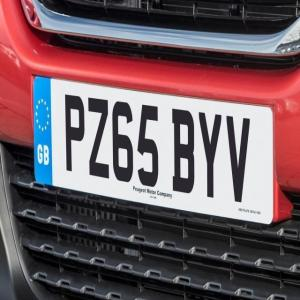Plate: (34, 78, 272, 224)
